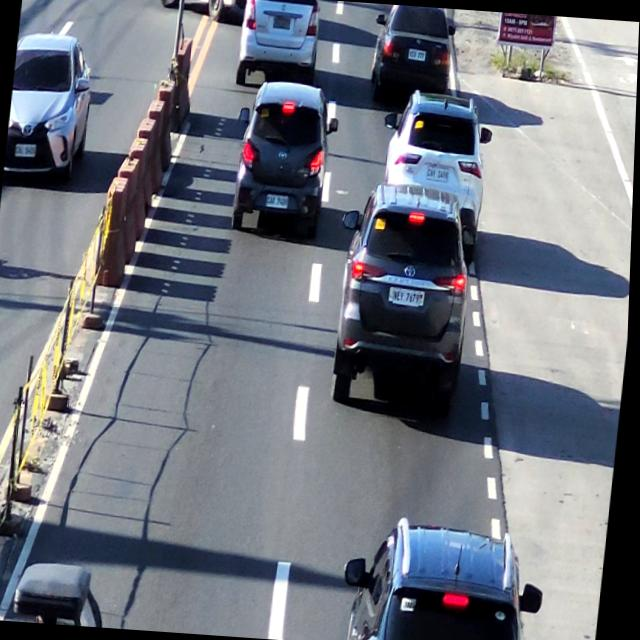Car: (330, 183, 483, 410), (350, 526, 537, 640), (234, 74, 338, 232), (381, 90, 496, 194), (370, 3, 459, 92), (229, 0, 330, 78)
License-Plate: (384, 282, 429, 314), (426, 163, 454, 188), (265, 192, 293, 214), (268, 12, 294, 32), (405, 49, 427, 66)
Tricycle: (14, 563, 116, 627)
